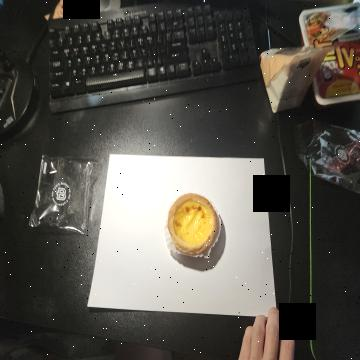EggTart: (167, 192, 219, 257)
